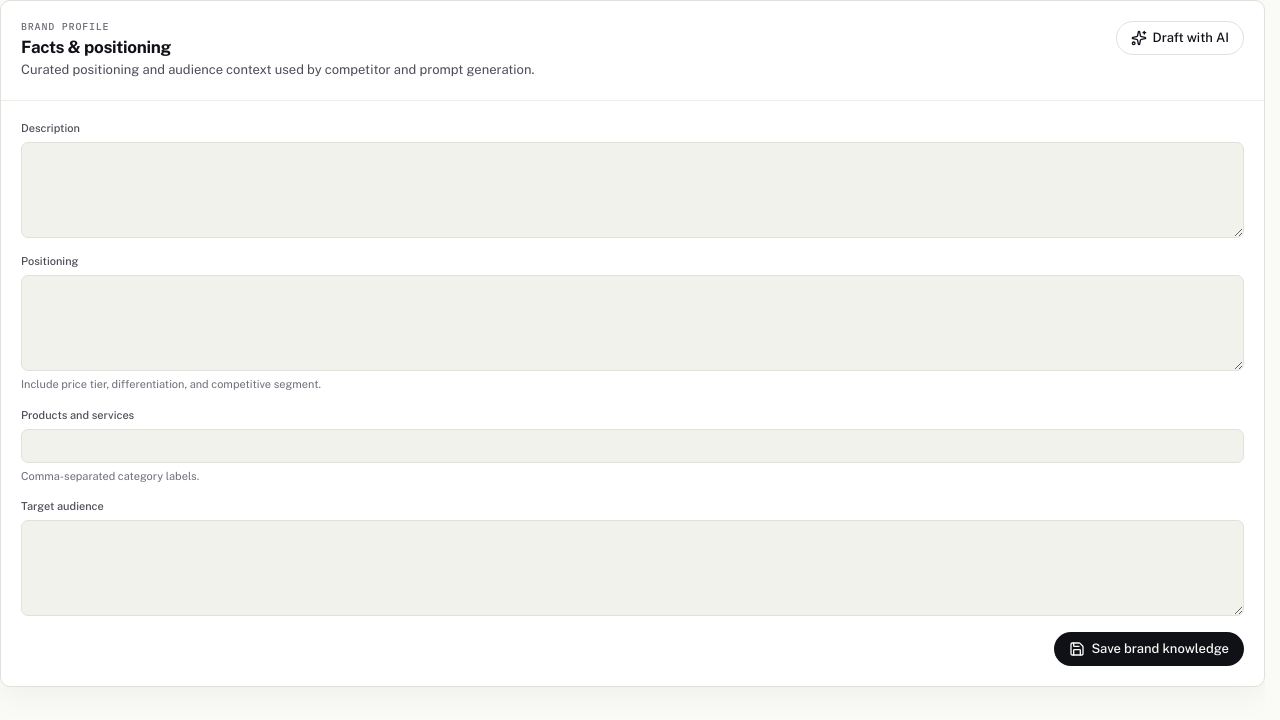
Test: BrandProfilePanel › saves direct edits as manual knowledge
Type "A value-focused family retailer." into the text box labelled "Description". click: {"x": 632, "y": 190}
box: top-left (21, 142), bottom-right (1244, 238)
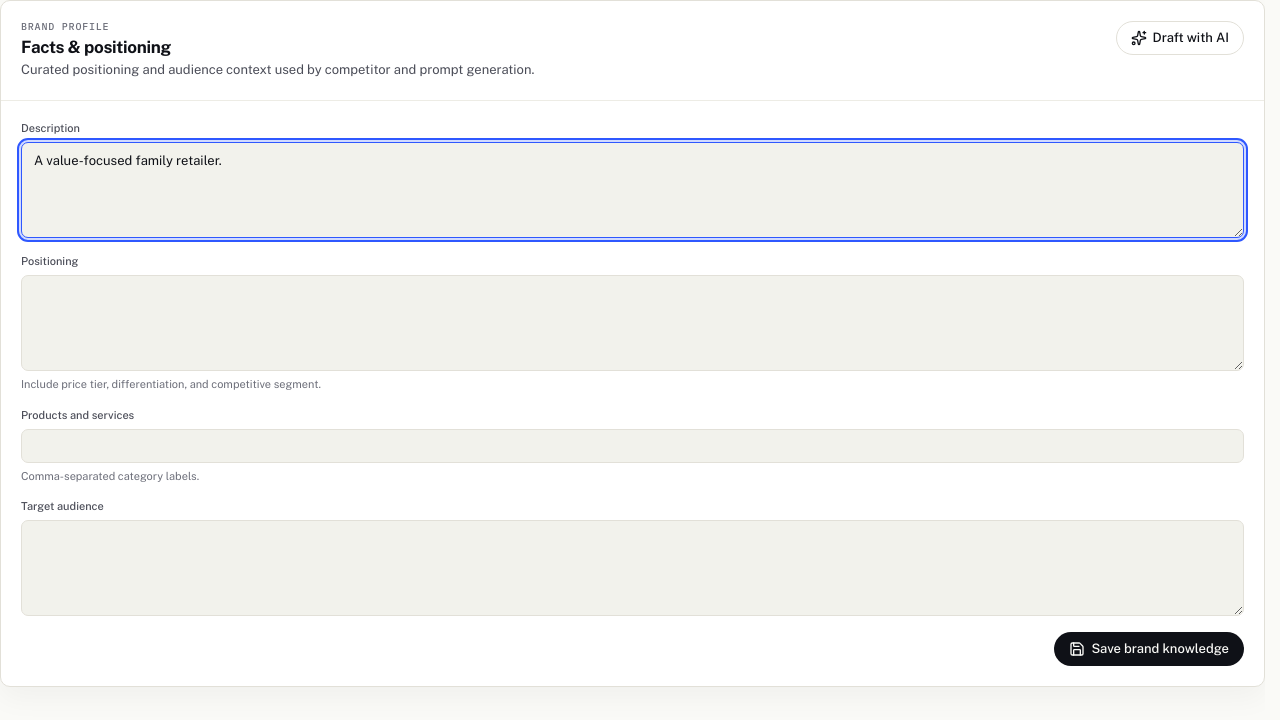
Type "Clothing," into the field labelled "Products and services". click: {"x": 632, "y": 446}
box: top-left (21, 429), bottom-right (1244, 463)
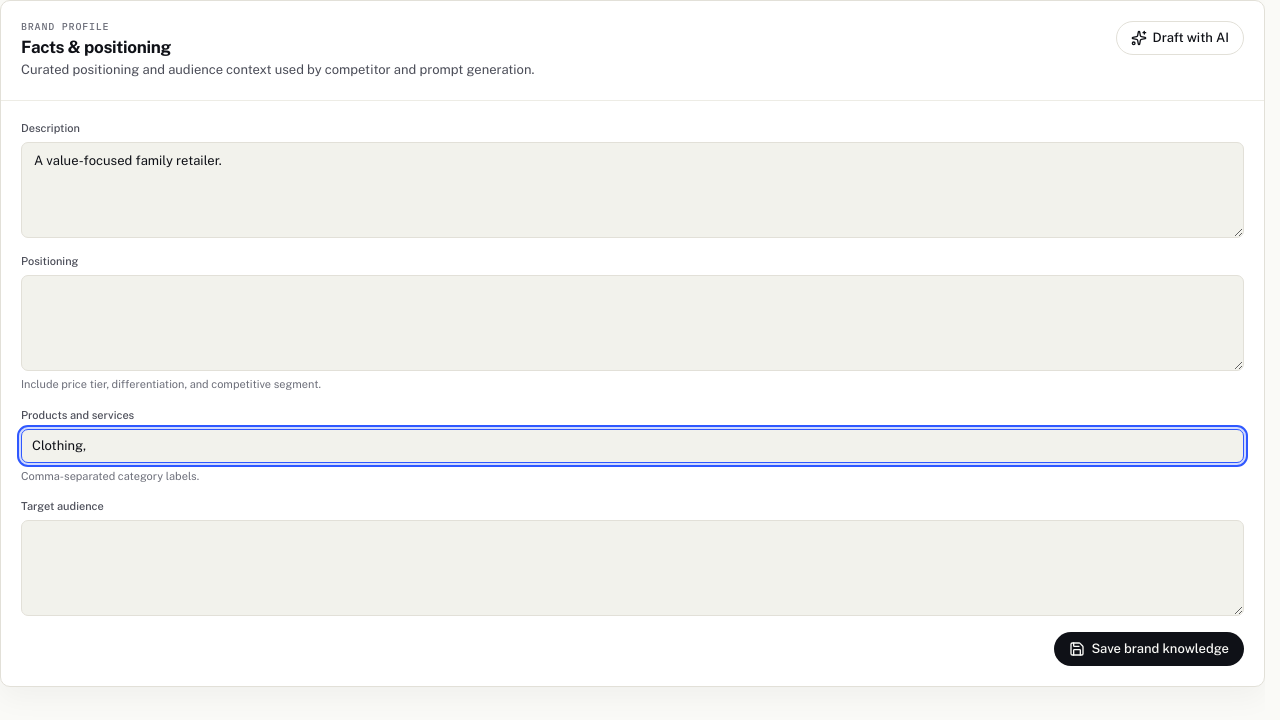
Click the button "Save brand knowledge". click: {"x": 1149, "y": 649}
box: top-left (1054, 632), bottom-right (1244, 666)
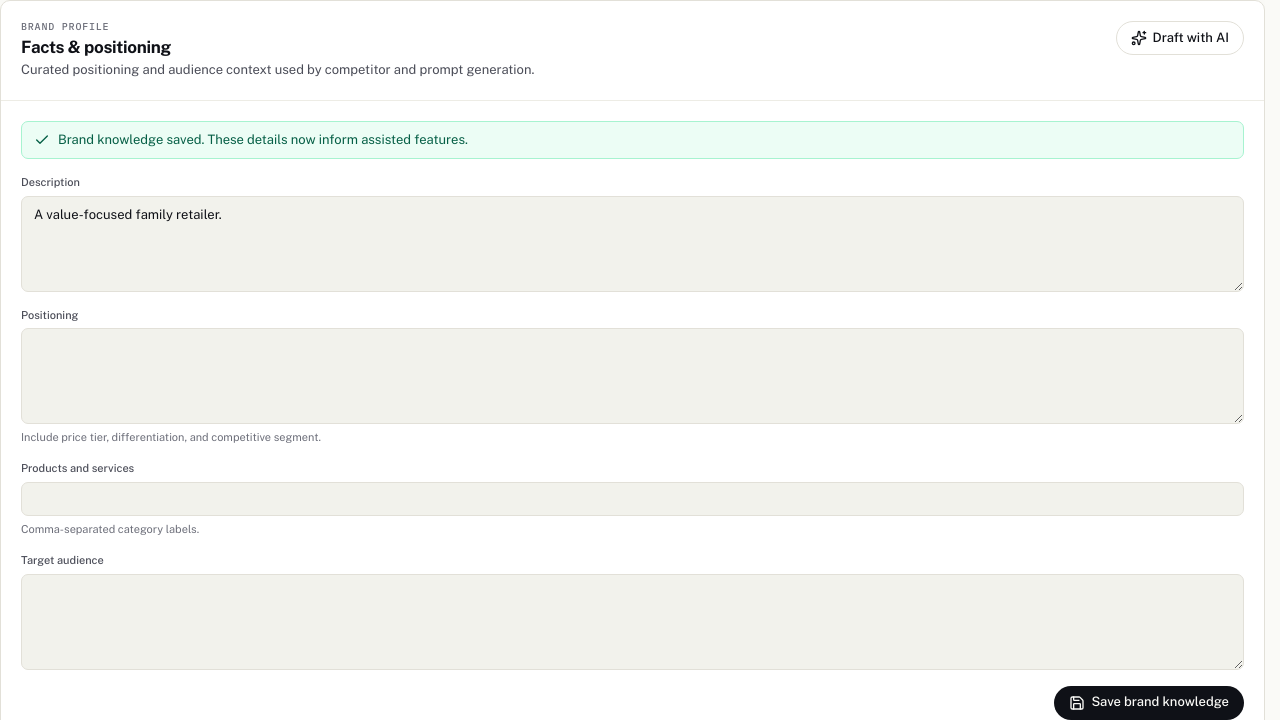
Result: the text "Brand knowledge saved" is shown at top-left (58, 132), bottom-right (468, 147)
